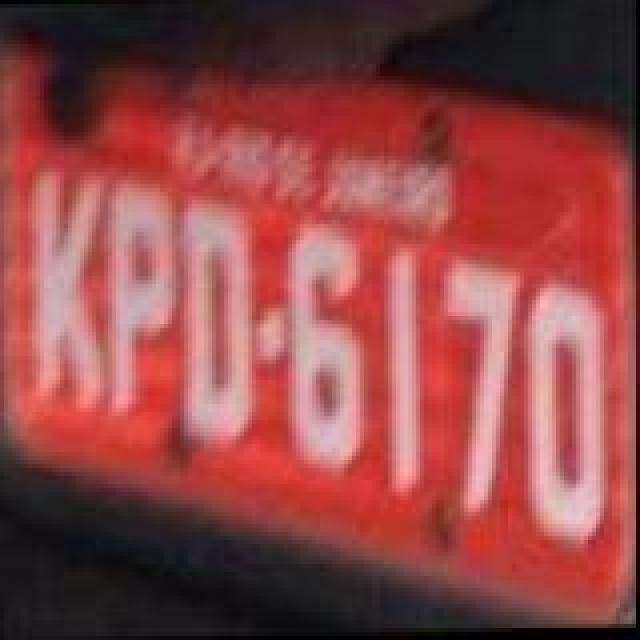1: (380, 242, 424, 498)
6: (284, 222, 368, 482)
7: (442, 256, 526, 520)
D: (176, 202, 260, 454)
K: (32, 168, 108, 416)
O: (522, 280, 614, 556)
P: (106, 186, 178, 426)
